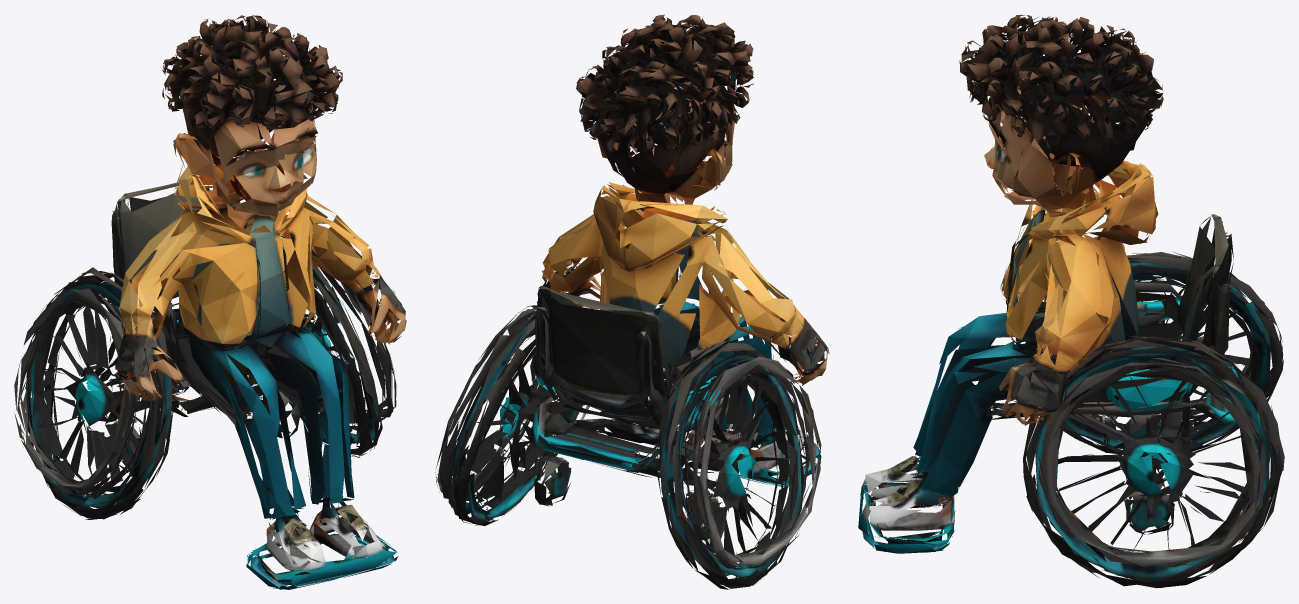
The model's file is MeninoCadeira_v3.glb.
3 renders of one model, left to right at view 1: azimuth 30°, elevation 25°; view 2: azimuth 150°, elevation 25°; view 3: azimuth 270°, elevation 25°, orthographic. The views are drawn at different scales.
Parts seen in each view (by area): view 1: out.obj; view 2: out.obj; view 3: out.obj.
Part boxes in pixels (x1=…): out.obj: x1=14, y1=15, x2=406, y2=589; out.obj: x1=435, y1=14, x2=829, y2=589; out.obj: x1=858, y1=14, x2=1284, y2=588.
Bounding box in the file's own units: 0.6574 × 1 × 0.7713.
Materials: 1 (1 with a texture image).
